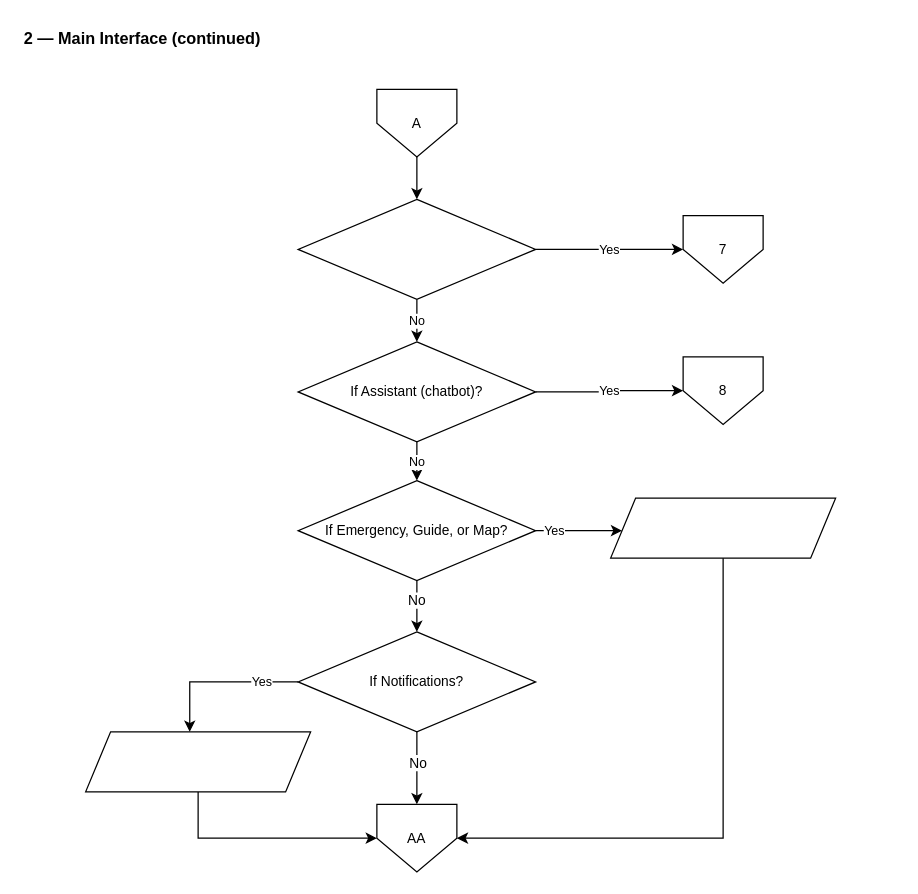
The diagram is 918 pixels wide and 894 high, and some of its shapes have lost their labels. The shapes that lost their labels are listed below. From the top down, each one's centre as x and y in pixels, then its label:
At (416,248): "If News or Announcements?".
At (722,527): "Open that screen".
At (197,761): "Notification list — tap to open the item".
